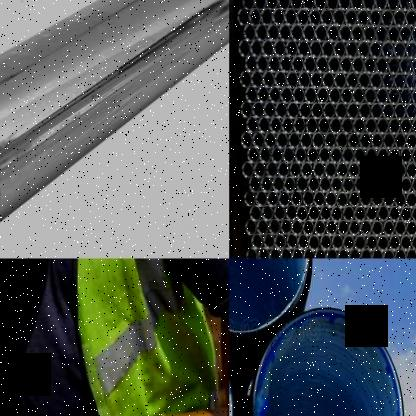pipe: (252, 307, 405, 416), (229, 259, 309, 332), (320, 7, 334, 27), (356, 8, 370, 28), (368, 8, 382, 28), (380, 8, 394, 28), (262, 70, 276, 90), (310, 70, 324, 90), (340, 86, 354, 106), (278, 23, 292, 42), (286, 70, 300, 89), (310, 101, 324, 120), (322, 101, 336, 120), (272, 6, 285, 26), (333, 7, 346, 27), (345, 8, 358, 28), (393, 8, 406, 28), (351, 24, 364, 44), (363, 24, 376, 44), (369, 40, 382, 60), (298, 70, 311, 90), (316, 86, 329, 106), (328, 86, 341, 106), (364, 86, 377, 106), (296, 8, 310, 26), (394, 40, 406, 61), (358, 102, 372, 120), (255, 23, 268, 42), (303, 23, 316, 42), (327, 24, 340, 43), (297, 39, 310, 58), (322, 71, 335, 90), (287, 101, 300, 120), (335, 101, 348, 120), (382, 102, 395, 121), (300, 131, 313, 150), (348, 160, 360, 180), (336, 160, 348, 180), (261, 6, 273, 26), (250, 7, 262, 27), (310, 7, 322, 27), (244, 22, 256, 42), (262, 38, 274, 58), (286, 38, 298, 58), (245, 54, 257, 74), (268, 54, 280, 74), (292, 54, 304, 74), (274, 70, 286, 90), (246, 84, 258, 104), (304, 86, 316, 106), (353, 86, 365, 106), (247, 146, 260, 164), (352, 56, 365, 74), (346, 72, 359, 90), (405, 40, 416, 61), (388, 146, 400, 165), (324, 160, 336, 179), (382, 161, 394, 180), (394, 161, 406, 180), (388, 176, 400, 195), (268, 23, 280, 42), (291, 23, 303, 42), (315, 24, 327, 43), (340, 24, 352, 43), (376, 25, 388, 44), (400, 25, 412, 44), (388, 25, 400, 44), (250, 39, 262, 58), (274, 39, 286, 58), (238, 39, 250, 58), (346, 40, 358, 59), (358, 40, 370, 59), (316, 55, 328, 74), (304, 55, 316, 74), (364, 56, 376, 75), (376, 56, 388, 75), (388, 56, 400, 75), (400, 56, 412, 75), (251, 70, 263, 89), (382, 72, 394, 91), (370, 72, 382, 91), (394, 72, 406, 91), (257, 85, 269, 104), (388, 87, 400, 106), (376, 87, 388, 106), (252, 100, 264, 119), (275, 100, 287, 119), (300, 101, 312, 120), (394, 102, 406, 121), (258, 115, 270, 134), (270, 115, 282, 134), (342, 116, 354, 135), (365, 116, 377, 135), (241, 131, 253, 150), (253, 131, 265, 150), (276, 131, 288, 150), (264, 131, 276, 150), (324, 131, 336, 150), (312, 131, 324, 150), (288, 131, 300, 150), (348, 131, 360, 150), (405, 8, 416, 28), (257, 54, 268, 74), (281, 54, 292, 74), (259, 146, 271, 164), (295, 146, 307, 164), (318, 146, 330, 164), (283, 146, 295, 164), (330, 146, 342, 164), (342, 146, 354, 164), (354, 146, 366, 164), (377, 146, 389, 164), (266, 160, 278, 178), (313, 160, 325, 178), (300, 160, 312, 178), (242, 160, 254, 178), (360, 161, 372, 179), (372, 161, 384, 179), (276, 161, 288, 179), (320, 176, 332, 194), (354, 176, 366, 194), (330, 176, 342, 194), (377, 176, 389, 194), (342, 176, 354, 194), (256, 190, 268, 208), (285, 8, 297, 26), (310, 40, 322, 58), (322, 40, 334, 58), (381, 41, 393, 59), (340, 56, 352, 74), (328, 56, 340, 74), (335, 72, 347, 90), (281, 86, 293, 104), (292, 86, 304, 104), (240, 100, 252, 118), (264, 100, 276, 118), (370, 102, 382, 120), (282, 116, 294, 134), (318, 116, 330, 134), (294, 116, 306, 134), (306, 116, 318, 134), (353, 116, 365, 134), (388, 117, 400, 135), (377, 117, 389, 135), (336, 132, 348, 150), (360, 132, 372, 150), (382, 132, 394, 150), (371, 132, 383, 150), (394, 132, 406, 150), (401, 176, 412, 195), (238, 7, 249, 26), (240, 70, 251, 89), (405, 72, 416, 91), (401, 87, 412, 106), (272, 176, 284, 193), (308, 176, 320, 193), (260, 176, 272, 193), (284, 176, 296, 193), (244, 190, 256, 207), (290, 191, 302, 208), (382, 191, 394, 208), (266, 191, 278, 208), (360, 191, 372, 208), (278, 191, 290, 208), (372, 191, 384, 208), (324, 191, 336, 208), (314, 191, 326, 208), (394, 192, 406, 209), (336, 192, 348, 209), (286, 204, 298, 221), (274, 204, 286, 221), (262, 204, 274, 221), (378, 205, 390, 222), (320, 205, 332, 222), (308, 205, 320, 222), (250, 205, 262, 222), (366, 205, 378, 222), (342, 205, 354, 222), (400, 206, 412, 223), (330, 206, 342, 223), (326, 219, 338, 236), (245, 219, 257, 236), (382, 219, 394, 236), (302, 219, 314, 236), (286, 233, 298, 250), (297, 233, 309, 250), (263, 233, 275, 250), (388, 235, 400, 252), (377, 235, 389, 252), (354, 235, 366, 252), (347, 102, 359, 119), (307, 146, 318, 164), (401, 146, 412, 164), (255, 160, 266, 178), (290, 160, 301, 178), (257, 218, 268, 236), (252, 232, 263, 250), (335, 40, 346, 58), (359, 72, 370, 90), (269, 86, 280, 104), (247, 116, 258, 134), (330, 116, 341, 134), (401, 117, 412, 135), (365, 148, 377, 164), (296, 176, 308, 192), (366, 177, 378, 193), (302, 190, 314, 206), (389, 206, 401, 222), (354, 206, 366, 222), (296, 206, 308, 222), (291, 219, 303, 235), (394, 220, 406, 236), (337, 220, 349, 236), (314, 220, 326, 236), (360, 220, 372, 236), (349, 220, 361, 236), (371, 220, 383, 236), (274, 234, 286, 250), (331, 234, 343, 250), (320, 234, 332, 250), (343, 235, 355, 251), (308, 235, 320, 251), (366, 235, 378, 251), (400, 235, 412, 251), (249, 176, 260, 193), (349, 191, 360, 208), (405, 191, 416, 208), (257, 219, 268, 236), (405, 103, 416, 120), (406, 132, 416, 150), (271, 148, 282, 164), (405, 162, 416, 178), (269, 219, 280, 235), (281, 219, 292, 235), (405, 220, 416, 236), (387, 0, 399, 12), (303, 247, 315, 258), (246, 247, 258, 258), (314, 247, 326, 258), (338, 247, 350, 258), (325, 247, 337, 258), (338, 0, 350, 11), (350, 0, 362, 11), (362, 0, 374, 11), (399, 0, 411, 11), (302, 0, 315, 10), (292, 247, 303, 258), (280, 247, 291, 258), (269, 247, 280, 258), (349, 247, 360, 258), (405, 247, 416, 258), (375, 0, 386, 11), (254, 0, 266, 10), (242, 0, 254, 10), (326, 0, 338, 10), (290, 0, 302, 10), (314, 0, 326, 10), (258, 247, 268, 258), (266, 0, 277, 10), (278, 0, 289, 10), (360, 249, 372, 258), (382, 249, 394, 258), (411, 86, 416, 106), (394, 249, 405, 258), (411, 116, 416, 135), (411, 146, 416, 164), (411, 176, 416, 194), (372, 249, 382, 258), (411, 56, 416, 74), (411, 206, 416, 222), (411, 234, 416, 250), (412, 24, 416, 44), (411, 0, 416, 11)
